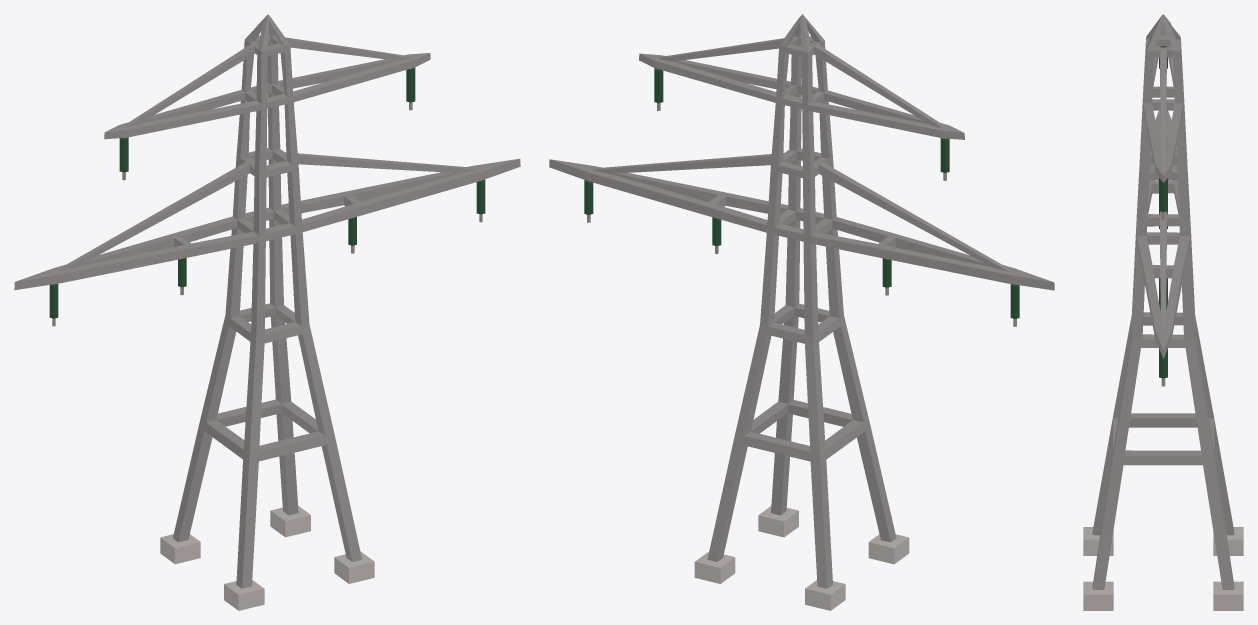
Rendered from power_line_pole.glb.
3 renders of one model, left to right at view 1: azimuth 30°, elevation 25°; view 2: azimuth 150°, elevation 25°; view 3: azimuth 270°, elevation 25°, orthographic. The views are drawn at different scales.
Parts seen in each view (by area): view 1: power_line_pole; view 2: power_line_pole; view 3: power_line_pole.
Part boxes in pixels (x1,y1,x2,y2): power_line_pole: (14, 14, 520, 610); power_line_pole: (549, 14, 1054, 610); power_line_pole: (1083, 14, 1243, 610).
Bounding box in the file's own units: 13.77 × 14.35 × 3.7.
1 material, 1 textured.
